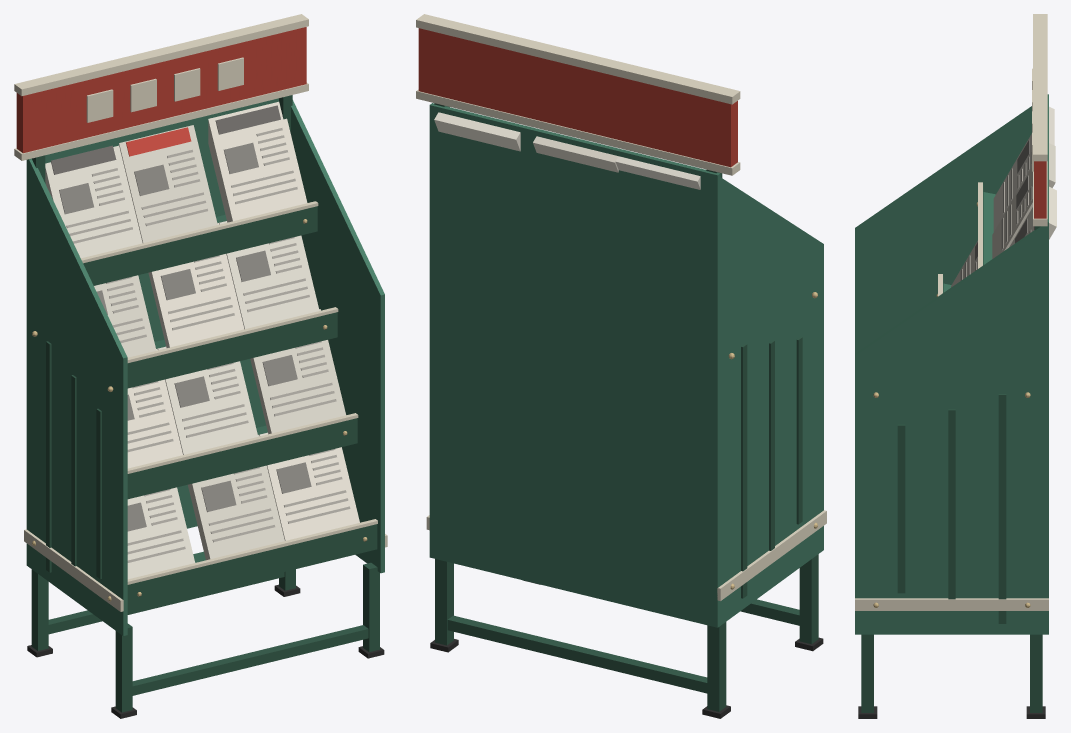
File: news_rack_6080.glb
The picture shows the model from 3 angles, left to right: view 1: azimuth 30°, elevation 25°; view 2: azimuth 150°, elevation 25°; view 3: azimuth 270°, elevation 25°; orthographic projection. The views are drawn at different scales.
Parts seen in each view (by area): view 1: news_rack_6080; view 2: news_rack_6080; view 3: news_rack_6080.
Part boxes in pixels (x1,y1,x2,y2): news_rack_6080: [14, 14, 387, 718]; news_rack_6080: [416, 14, 826, 718]; news_rack_6080: [855, 14, 1056, 718].
Size of the model in its own units: 0.79 by 1.49 by 0.4791.
